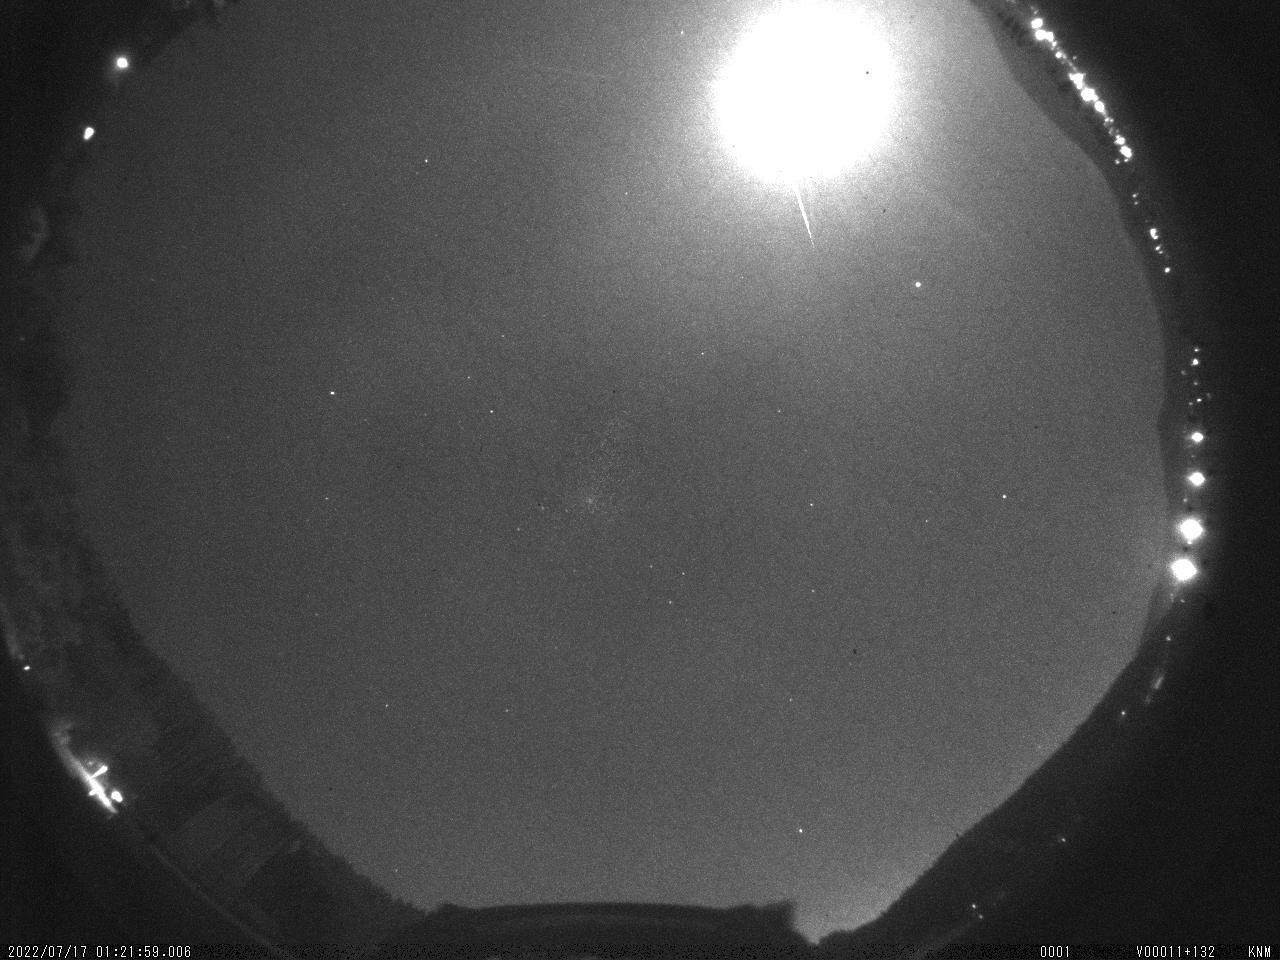Meteor: (791, 186, 821, 254)
